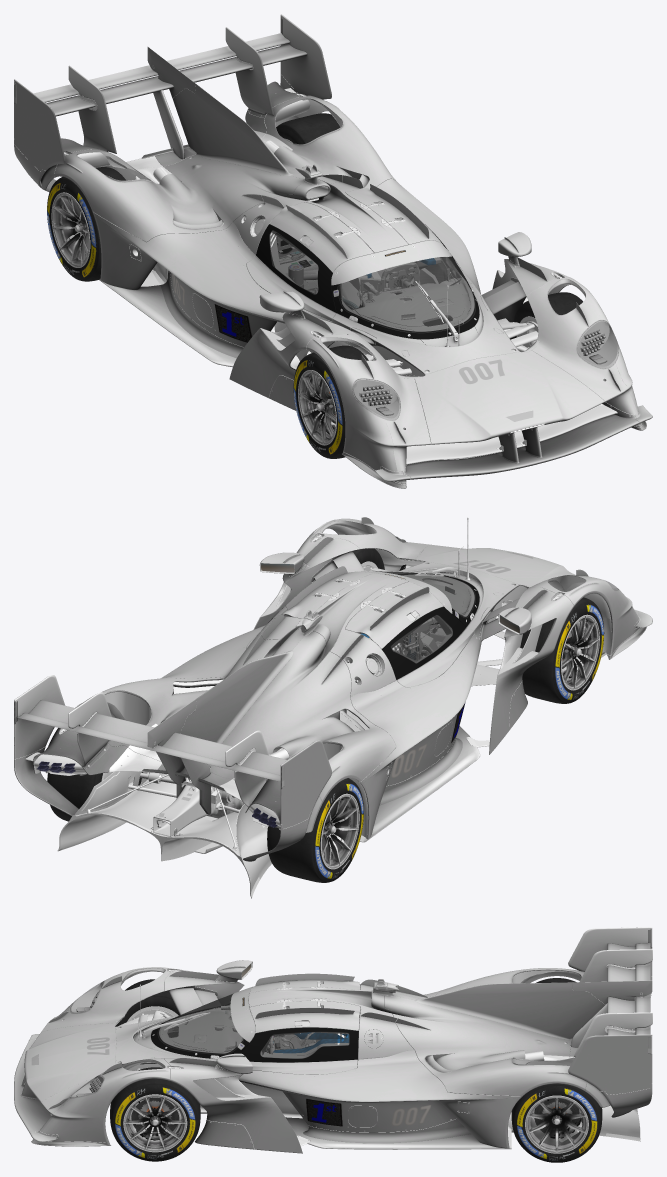
Rendered from aston_martin_valkyrie.glb.
3 views of the same model, one above another, from view 1: azimuth 30°, elevation 25°; view 2: azimuth 150°, elevation 25°; view 3: azimuth 270°, elevation 25° (orthographic). The views are drawn at different scales.
Parts seen in each view (by area): view 1: WING_EXT_CARPAINT_0, EXT_GLASS_EXT_GLASS_0, CHASSIS_CARBON_SUB2_CHASSIS_CARBON_0, GEO_TIRE_LF_EXT_TYRE_0, GEO_RIM_SBLUR_LF_EXT_RIMS_0, INT_ALCANTARA_GRAY_INT_ALCANTARA_0, EXT_GLASS_LIGHTS_EXT_LIGHTS_GLASS_0, INT_FITA_INT_CARBON_0, WING_METAL_MECANICALS_PARTS_0, GEO_RIM_BLUR_LF_EXT_BLUR_0, LIGHTS_EXT_LIGHTS_0, INT_DETAIS_SUB3_INT_COCKPIT_PARTS_0 (+2 smaller); view 2: WING_EXT_CARPAINT_0, CHASSIS_CARBON_SUB2_CHASSIS_CARBON_0, GEO_TIRE_LF_EXT_TYRE_0, WING_METAL_MECANICALS_PARTS_0, EXT_GLASS_EXT_GLASS_0, GEO_RIM_SBLUR_LF_EXT_RIMS_0, GEO_RIM_BLUR_LF_EXT_BLUR_0, INT_FITA_INT_CARBON_0, INT_ALCANTARA_GRAY_INT_ALCANTARA_0, L_NUMBER_GLASS_PLATE_L_GLASS_NUBERPLATE_0, EXT_GLASS_LIGHTS_EXT_LIGHTS_GLASS_0, LIGHTS_EXT_LIGHTS_0; view 3: WING_EXT_CARPAINT_0, EXT_GLASS_EXT_GLASS_0, CHASSIS_CARBON_SUB2_CHASSIS_CARBON_0, GEO_TIRE_LF_EXT_TYRE_0, GEO_RIM_SBLUR_LF_EXT_RIMS_0, GEO_RIM_BLUR_LF_EXT_BLUR_0, INT_ALCANTARA_GRAY_INT_ALCANTARA_0, WING_METAL_MECANICALS_PARTS_0, GEO_DISC_LF_BRAKE_DISC_0, INT_FITA_INT_CARBON_0, EXT_GLASS_LIGHTS_EXT_LIGHTS_GLASS_0, L_NUMBER_GLASS_PLATE_L_GLASS_NUBERPLATE_0 (+2 smaller).
Boxes of the visible parts, x1,y1,x2,y2 form: WING_EXT_CARPAINT_0: [14, 14, 652, 488]; EXT_GLASS_EXT_GLASS_0: [256, 224, 479, 339]; CHASSIS_CARBON_SUB2_CHASSIS_CARBON_0: [18, 70, 642, 484]; GEO_TIRE_LF_EXT_TYRE_0: [47, 113, 582, 458]; GEO_RIM_SBLUR_LF_EXT_RIMS_0: [51, 139, 536, 445]; INT_ALCANTARA_GRAY_INT_ALCANTARA_0: [353, 279, 471, 330]; EXT_GLASS_LIGHTS_EXT_LIGHTS_GLASS_0: [353, 320, 618, 420]; INT_FITA_INT_CARBON_0: [270, 230, 461, 342]; WING_METAL_MECANICALS_PARTS_0: [64, 57, 561, 451]; GEO_RIM_BLUR_LF_EXT_BLUR_0: [53, 195, 332, 442]; LIGHTS_EXT_LIGHTS_0: [14, 81, 606, 415]; INT_DETAIS_SUB3_INT_COCKPIT_PARTS_0: [280, 252, 456, 319]; WING_EXT_CARPAINT_0: [14, 517, 652, 861]; CHASSIS_CARBON_SUB2_CHASSIS_CARBON_0: [14, 521, 640, 895]; GEO_TIRE_LF_EXT_TYRE_0: [47, 548, 604, 882]; WING_METAL_MECANICALS_PARTS_0: [57, 517, 562, 898]; EXT_GLASS_EXT_GLASS_0: [268, 571, 479, 679]; GEO_RIM_SBLUR_LF_EXT_RIMS_0: [101, 561, 599, 869]; GEO_RIM_BLUR_LF_EXT_BLUR_0: [322, 623, 596, 862]; INT_FITA_INT_CARBON_0: [282, 578, 452, 663]; INT_ALCANTARA_GRAY_INT_ALCANTARA_0: [402, 575, 471, 625]; L_NUMBER_GLASS_PLATE_L_GLASS_NUBERPLATE_0: [391, 560, 510, 777]; EXT_GLASS_LIGHTS_EXT_LIGHTS_GLASS_0: [14, 527, 618, 827]; LIGHTS_EXT_LIGHTS_0: [14, 574, 398, 827]; WING_EXT_CARPAINT_0: [14, 927, 652, 1153]; EXT_GLASS_EXT_GLASS_0: [151, 993, 358, 1062]; CHASSIS_CARBON_SUB2_CHASSIS_CARBON_0: [31, 961, 651, 1149]; GEO_TIRE_LF_EXT_TYRE_0: [110, 978, 602, 1162]; GEO_RIM_SBLUR_LF_EXT_RIMS_0: [123, 1006, 588, 1153]; GEO_RIM_BLUR_LF_EXT_BLUR_0: [125, 1097, 583, 1150]; INT_ALCANTARA_GRAY_INT_ALCANTARA_0: [160, 1008, 241, 1052]; WING_METAL_MECANICALS_PARTS_0: [118, 964, 640, 1145]; GEO_DISC_LF_BRAKE_DISC_0: [131, 1097, 579, 1135]; INT_FITA_INT_CARBON_0: [168, 1010, 359, 1058]; EXT_GLASS_LIGHTS_EXT_LIGHTS_GLASS_0: [70, 981, 104, 1098]; L_NUMBER_GLASS_PLATE_L_GLASS_NUBERPLATE_0: [87, 1037, 430, 1125].
Size of what is drawn, in the model's own units: 0.0201 by 0.0113 by 0.0499.
40 materials, 33 textured.
